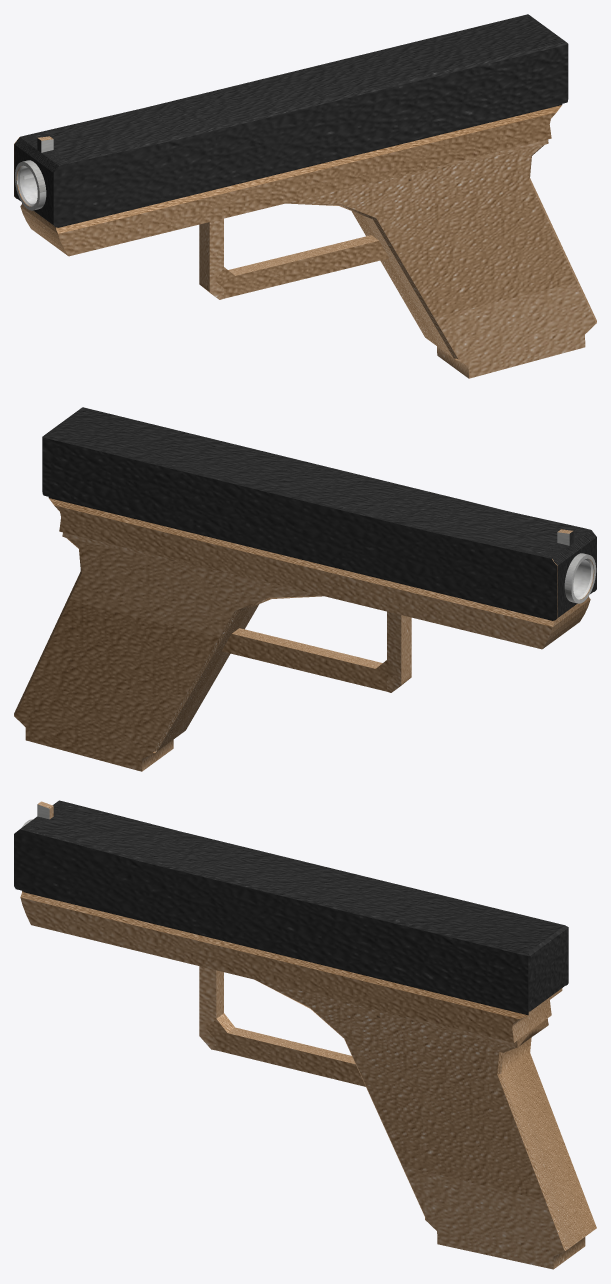
The model's file is sm_Glock.fbx.
3 views of the same model, one above another, from view 1: azimuth 30°, elevation 25°; view 2: azimuth 150°, elevation 25°; view 3: azimuth 330°, elevation 25° (orthographic).
Parts seen in each view (by area): view 1: pCube39; view 2: pCube39; view 3: pCube39.
Boxes of the visible parts, x1,y1,x2,y2 form: pCube39: (14, 14, 596, 378); pCube39: (14, 407, 596, 771); pCube39: (14, 800, 596, 1269).
Size of the model in its own units: 32.32 by 18.29 by 4.
